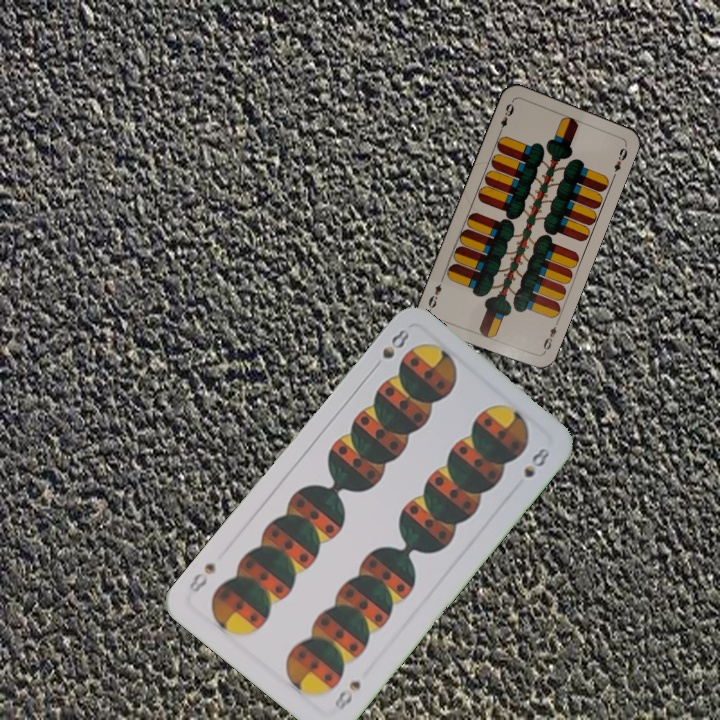E9: (538, 318, 561, 357), (495, 98, 516, 136)
S8: (330, 676, 364, 713), (378, 325, 412, 362)
